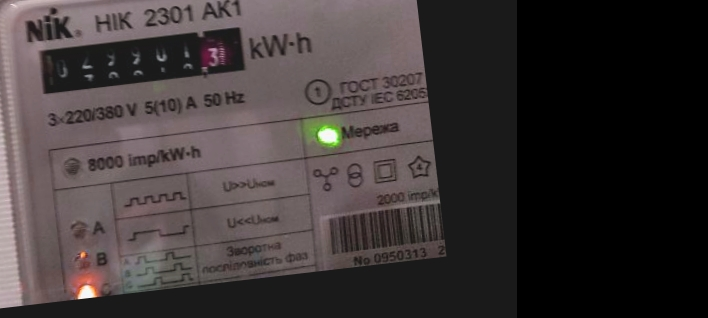0: (52, 56, 71, 79), (152, 37, 168, 64)
1: (177, 36, 192, 60)
2: (77, 50, 95, 71)
3: (205, 44, 220, 67)
9: (127, 42, 144, 66), (102, 45, 117, 69)
screen: (24, 15, 257, 104)
